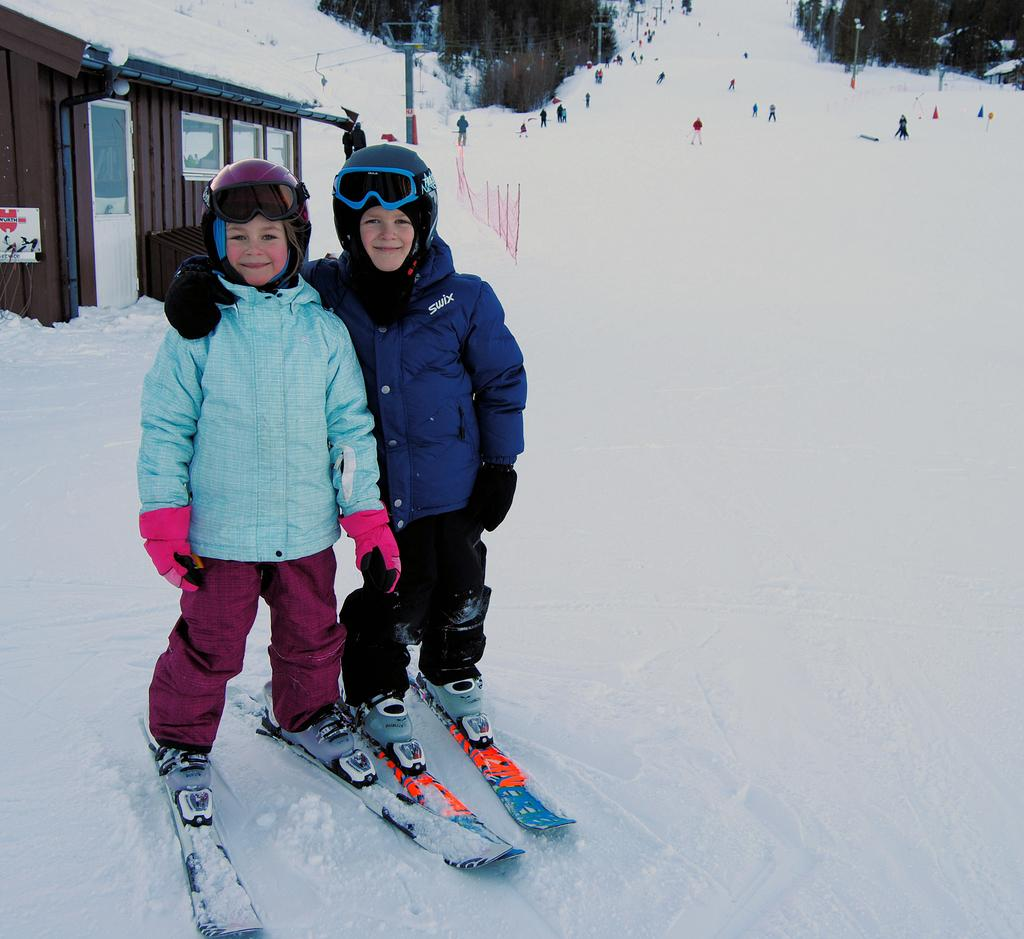helmet: (200, 158, 311, 285), (332, 144, 438, 270)
